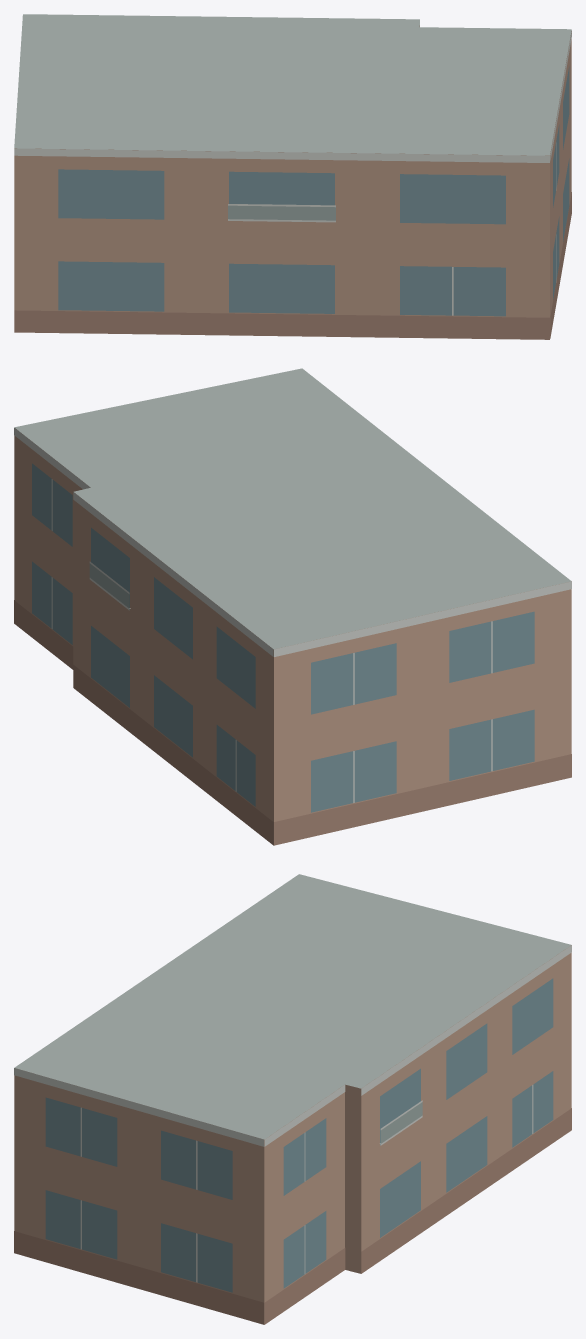
The model's file is survey-upis-32830379.glb.
3 renders of one model, top to bottom at view 1: azimuth 30°, elevation 25°; view 2: azimuth 150°, elevation 25°; view 3: azimuth 270°, elevation 25°, orthographic. The views are drawn at different scales.
Parts seen in each view (by area): view 1: survey-upis-32830379.tmp; view 2: survey-upis-32830379.tmp; view 3: survey-upis-32830379.tmp.
Part boxes in pixels (left/top/right/bottom): survey-upis-32830379.tmp: left=14, top=14, right=571, bottom=339; survey-upis-32830379.tmp: left=14, top=368, right=571, bottom=845; survey-upis-32830379.tmp: left=14, top=874, right=571, bottom=1324.
Size of the model in its own units: 18.76 by 6.1 by 16.65.
